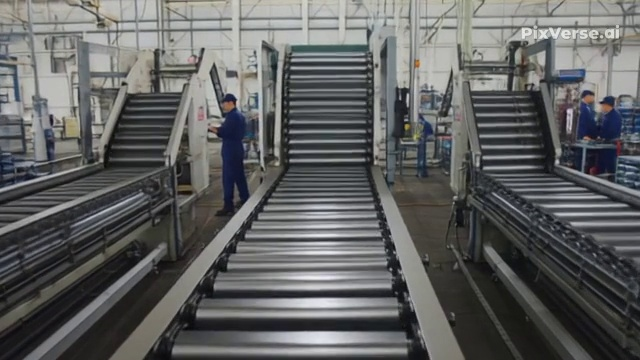0 employé: (205, 92, 252, 215), (599, 91, 630, 188), (570, 82, 599, 154)
1 machine: (243, 43, 429, 359), (442, 58, 585, 356), (10, 68, 197, 286)
